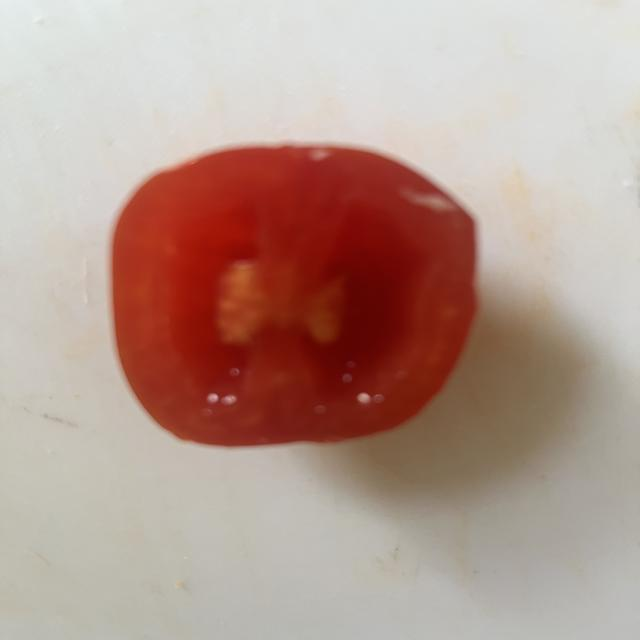sliced_tomato: (112, 146, 475, 446)
